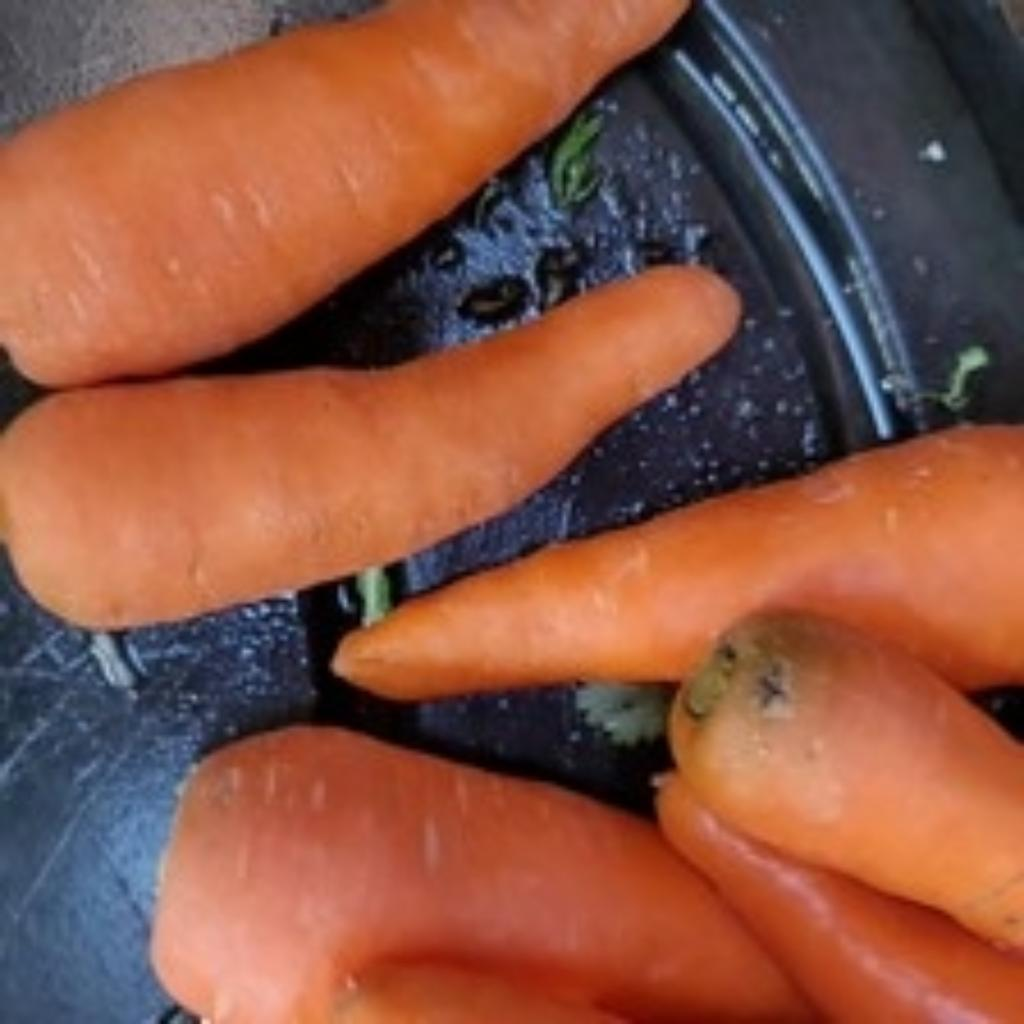carrot: (0, 265, 731, 617), (0, 0, 675, 375), (151, 722, 805, 1015), (329, 421, 1015, 690), (654, 613, 1015, 1015), (654, 768, 1015, 1015)
